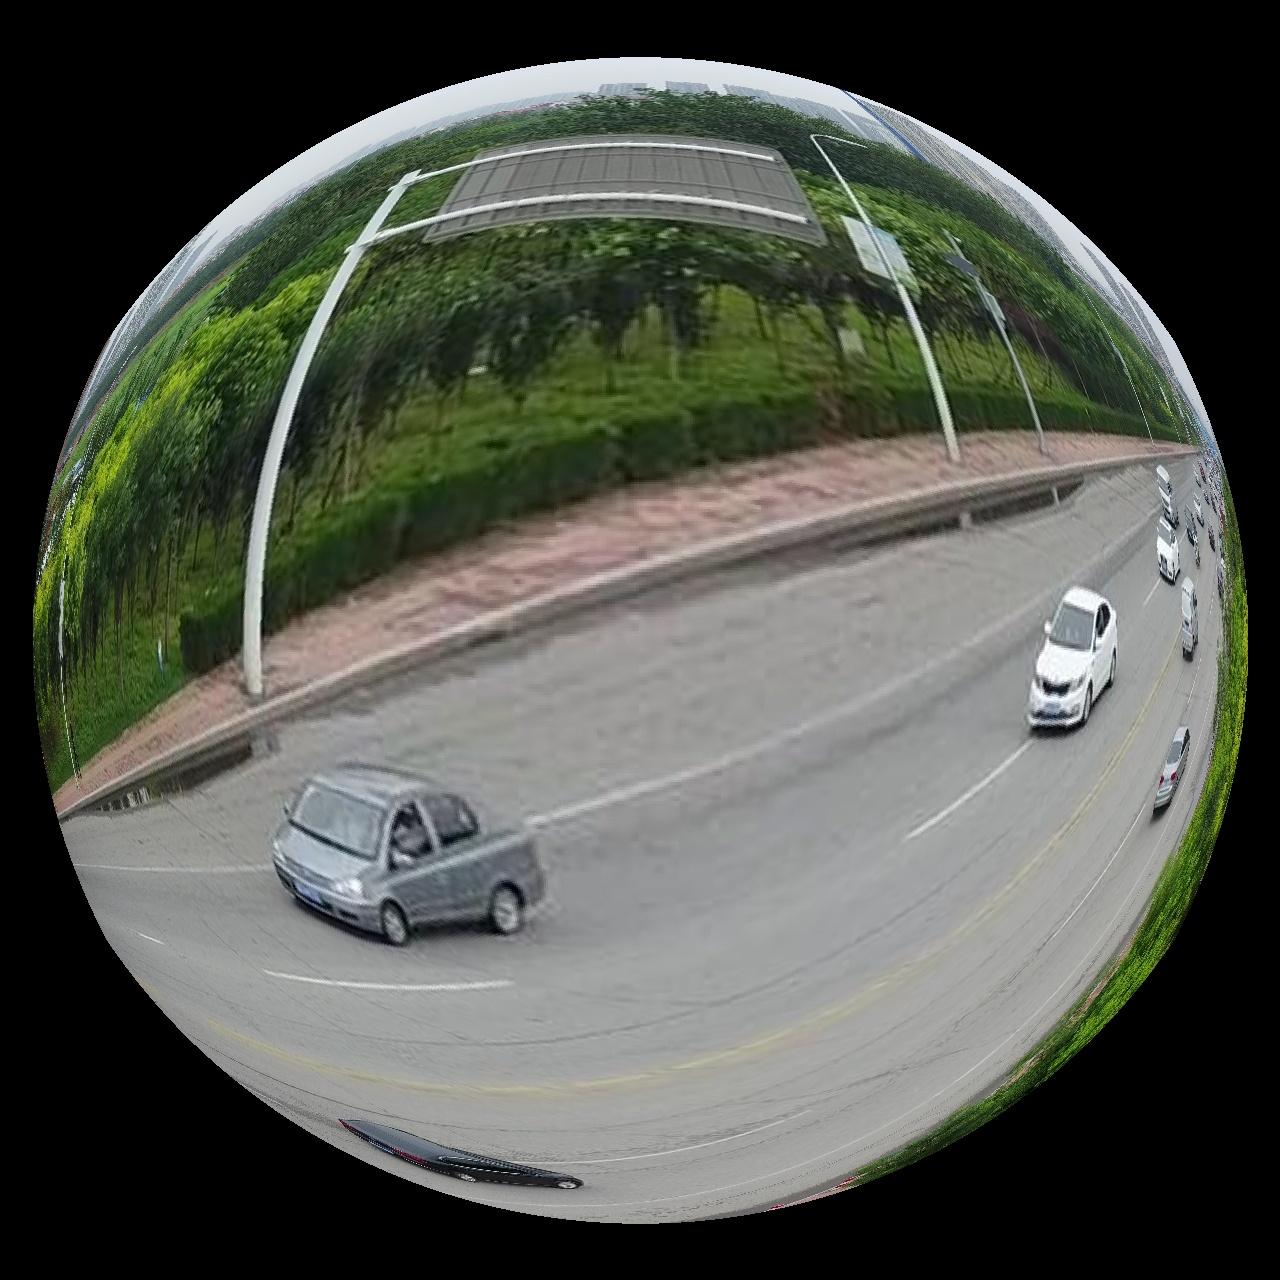cars: (270, 763, 544, 947), (339, 1121, 583, 1191), (1030, 586, 1118, 729), (1156, 727, 1194, 816), (1183, 577, 1201, 661), (1159, 518, 1183, 585), (1157, 464, 1182, 527)
trees: (34, 90, 1208, 787), (840, 855, 1197, 1191), (1167, 529, 1251, 932)
